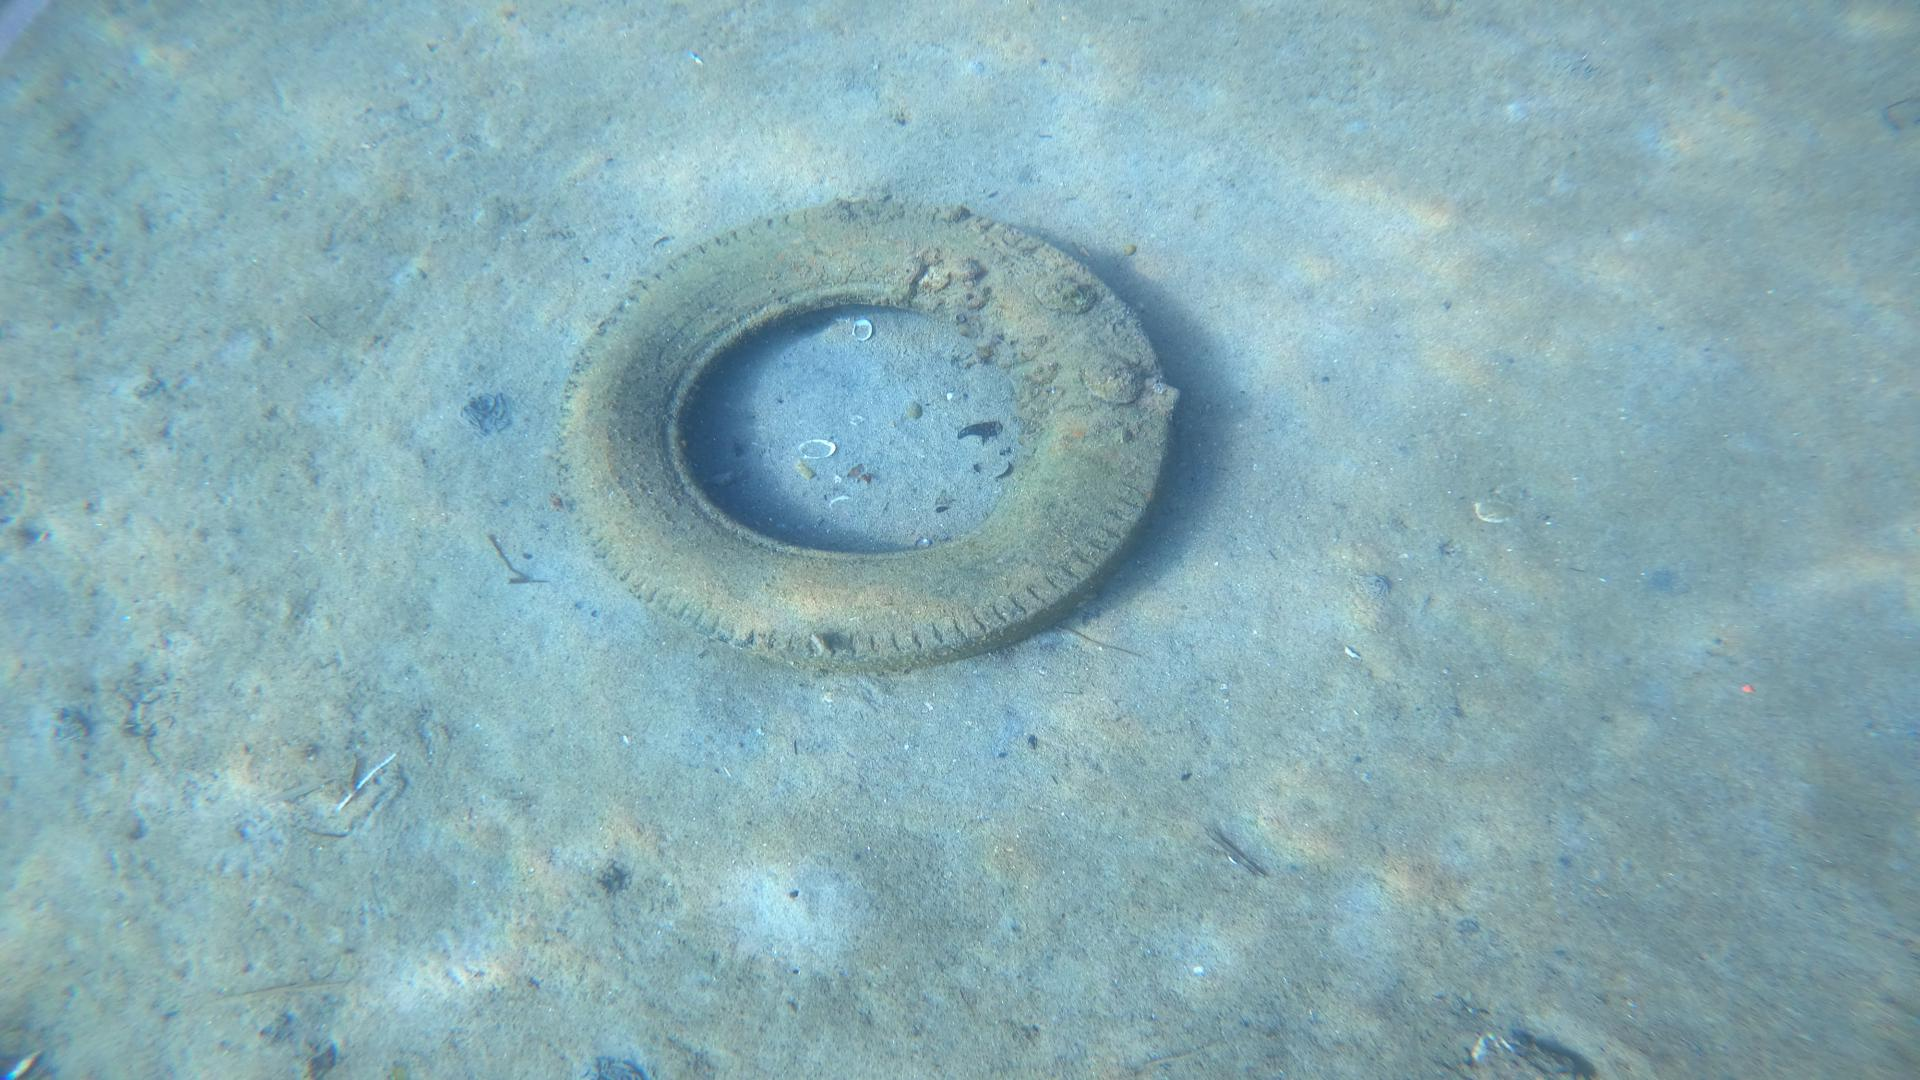tire: (556, 194, 1172, 669)
